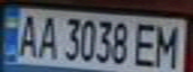0: (78, 16, 96, 63)
3: (60, 14, 81, 62), (96, 17, 115, 64)
8: (109, 18, 133, 66)
A: (12, 11, 42, 58), (33, 11, 60, 60)
E: (130, 19, 160, 69)
M: (151, 21, 184, 70)
